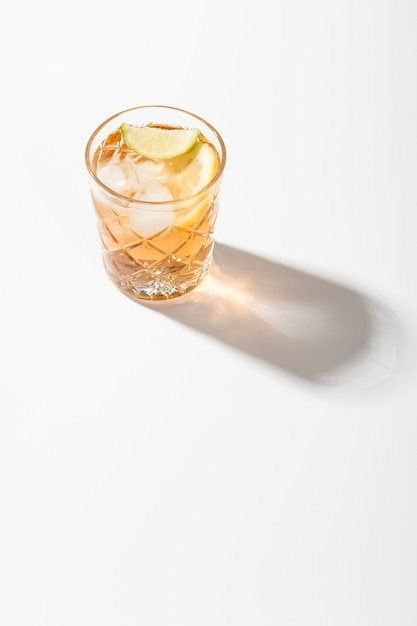alcohol: (79, 100, 228, 306)
